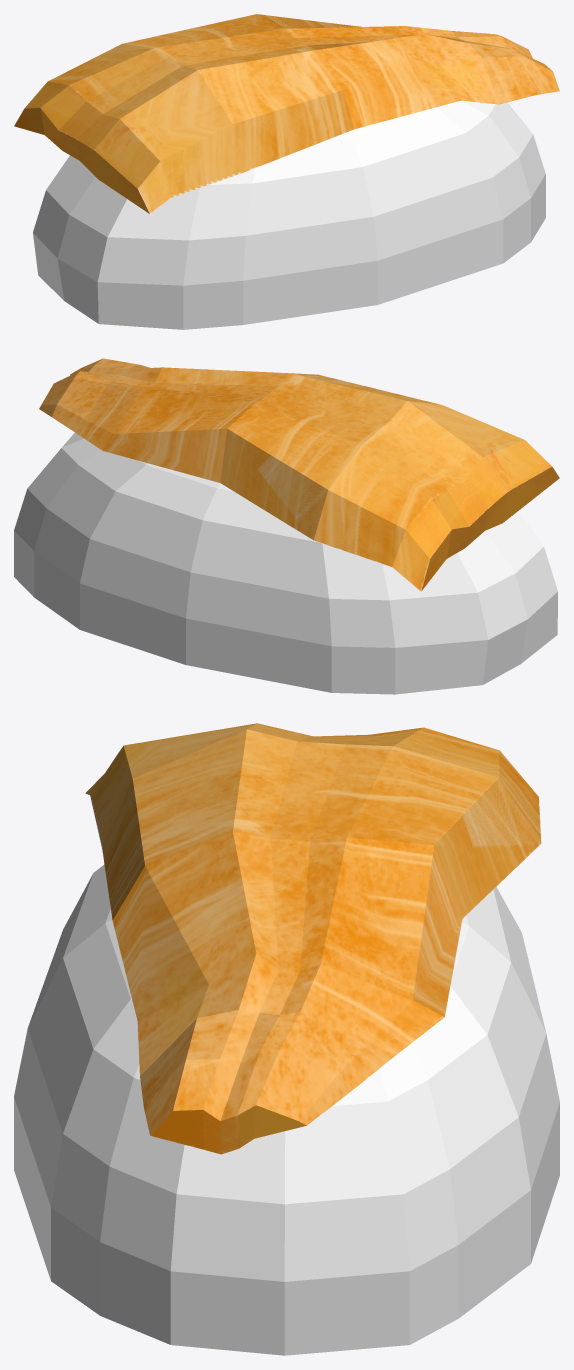
The model's file is nigiri_salmon.fbx.
3 renders of one model, top to bottom at view 1: azimuth 30°, elevation 25°; view 2: azimuth 150°, elevation 25°; view 3: azimuth 270°, elevation 25°, orthographic. The views are drawn at different scales.
Parts seen in each view (by area): view 1: nigiri; view 2: nigiri; view 3: nigiri.
Part boxes in pixels (box(x1,y1,x2,y2)): nigiri: box(14, 14, 559, 329); nigiri: box(14, 358, 559, 694); nigiri: box(14, 723, 559, 1355).
Bounding box in the file's own units: 234 × 102 × 143.
